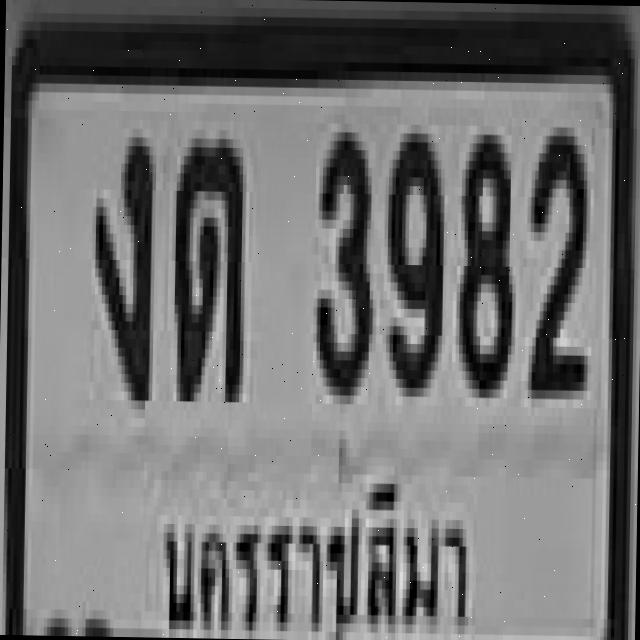16NgorNgu: (89, 127, 153, 400)
2: (524, 117, 584, 390)
3: (312, 122, 372, 386)
30TorTao: (169, 129, 243, 393)
8: (454, 125, 511, 389)
9: (382, 124, 442, 388)
NakhonRatchasima: (154, 461, 484, 640)
